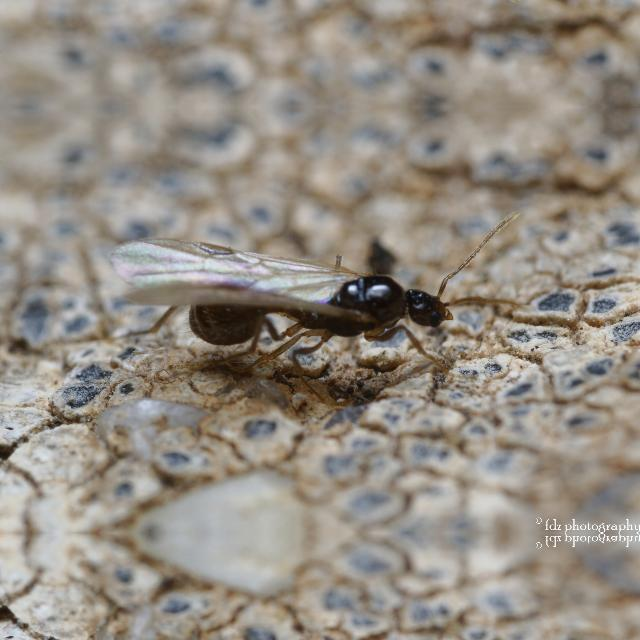Apheanogaster: (142, 230, 486, 370)
